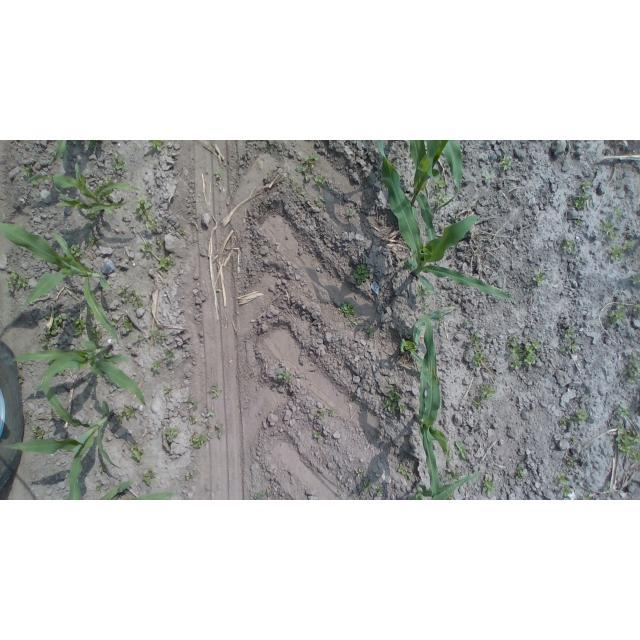Maize: (376, 140, 515, 302), (1, 221, 124, 346), (2, 380, 120, 500), (8, 340, 148, 406), (414, 314, 449, 500), (27, 163, 141, 214), (409, 140, 464, 209), (401, 307, 456, 368), (413, 469, 480, 500), (93, 481, 175, 500), (50, 140, 67, 162)
Weeds: (507, 337, 541, 370), (616, 424, 640, 462), (136, 195, 160, 231), (72, 317, 102, 344), (470, 331, 489, 367), (295, 155, 320, 181), (623, 347, 640, 384), (120, 286, 145, 309), (353, 259, 373, 285), (434, 176, 450, 207), (414, 285, 431, 314), (600, 218, 620, 241), (384, 388, 400, 412), (610, 301, 626, 325), (8, 269, 27, 289), (52, 310, 69, 330), (571, 194, 591, 211), (157, 253, 175, 271), (68, 243, 88, 259), (338, 301, 358, 317), (455, 440, 470, 461), (128, 444, 145, 461), (189, 432, 207, 448), (40, 330, 56, 348), (480, 383, 496, 401), (313, 195, 329, 213), (164, 427, 180, 444), (609, 244, 625, 261), (124, 405, 141, 420), (111, 152, 125, 170), (574, 409, 589, 424), (142, 468, 156, 484), (152, 327, 168, 341), (482, 478, 496, 493), (32, 425, 45, 440), (316, 174, 329, 189), (533, 273, 548, 286), (123, 317, 136, 331), (140, 240, 154, 253), (278, 369, 293, 381), (499, 155, 511, 170), (148, 141, 164, 152), (446, 470, 463, 480), (556, 472, 569, 485), (617, 404, 629, 418), (472, 399, 485, 411), (564, 240, 576, 253), (622, 240, 636, 251), (361, 480, 371, 495), (216, 424, 225, 440), (166, 348, 177, 361), (88, 235, 101, 245), (516, 468, 526, 481), (22, 165, 32, 177), (566, 457, 578, 467), (295, 184, 305, 196), (614, 206, 624, 218), (87, 210, 100, 219), (315, 409, 325, 420), (562, 486, 573, 496), (186, 395, 196, 405), (560, 415, 570, 425), (364, 325, 374, 335), (564, 329, 574, 339), (254, 492, 265, 501), (115, 411, 124, 421), (156, 236, 165, 246), (397, 466, 407, 475), (582, 180, 592, 189), (569, 342, 577, 353), (18, 372, 25, 384), (97, 464, 106, 473), (152, 361, 161, 370), (632, 303, 640, 313), (103, 176, 113, 184), (88, 140, 98, 148), (376, 486, 384, 496), (444, 447, 452, 457), (481, 172, 491, 180), (632, 274, 640, 284), (189, 417, 200, 424), (211, 388, 219, 397), (346, 208, 355, 216), (30, 179, 40, 186), (180, 229, 188, 237), (215, 171, 223, 179), (187, 472, 194, 481), (436, 318, 445, 325), (400, 405, 406, 415), (45, 312, 52, 320), (288, 175, 295, 183), (487, 235, 493, 244), (103, 196, 113, 201), (582, 495, 592, 500), (466, 318, 473, 325), (313, 432, 321, 438), (96, 484, 102, 492), (109, 320, 117, 326), (329, 409, 335, 416), (164, 387, 170, 394), (447, 493, 453, 500), (453, 216, 459, 223), (572, 436, 577, 444), (575, 219, 581, 225), (559, 348, 566, 353), (207, 412, 214, 417), (59, 370, 65, 375), (48, 360, 54, 364)
